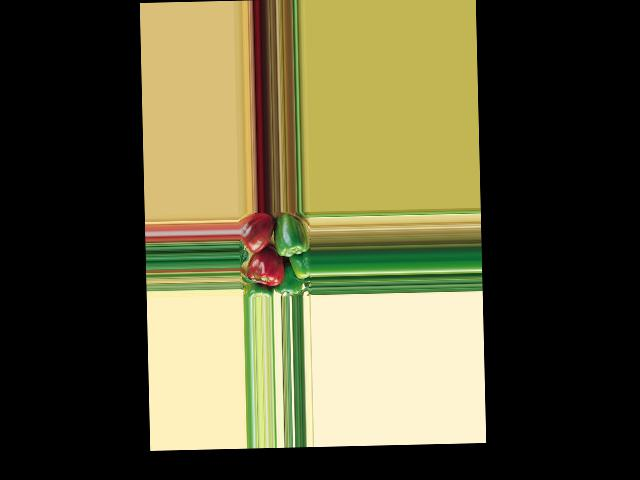bell_pepper: (240, 212, 272, 253)
